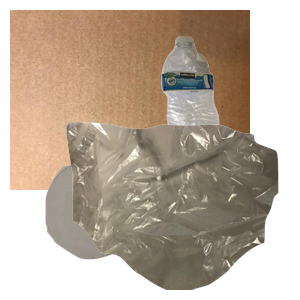cardboard: (10, 10, 250, 190)
glass: (43, 159, 187, 300)
plastic: (159, 34, 300, 176)
trash: (64, 120, 300, 300)
